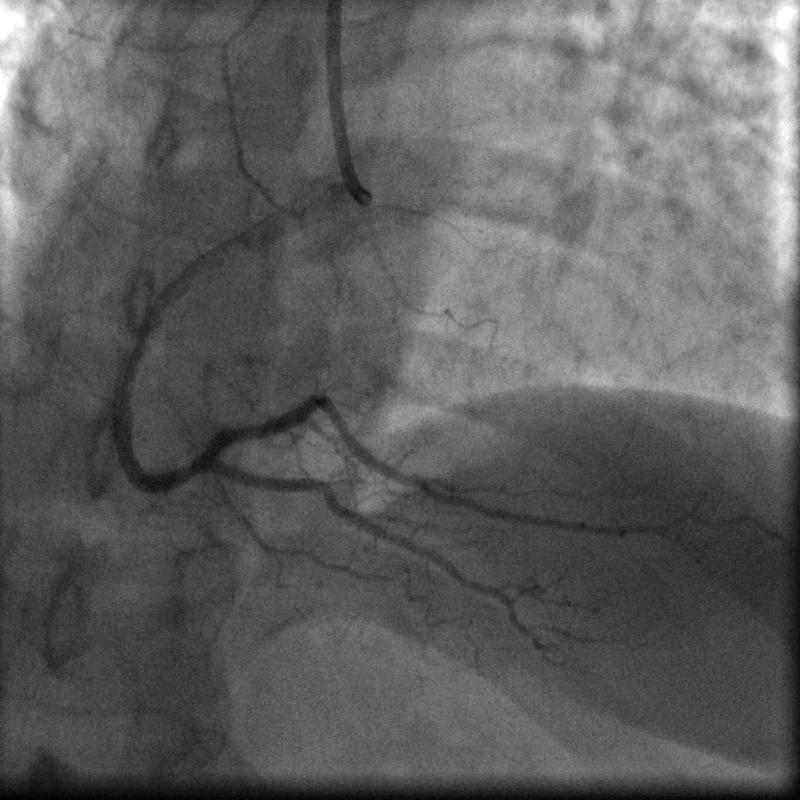Stenosis: (174, 454, 206, 481)
